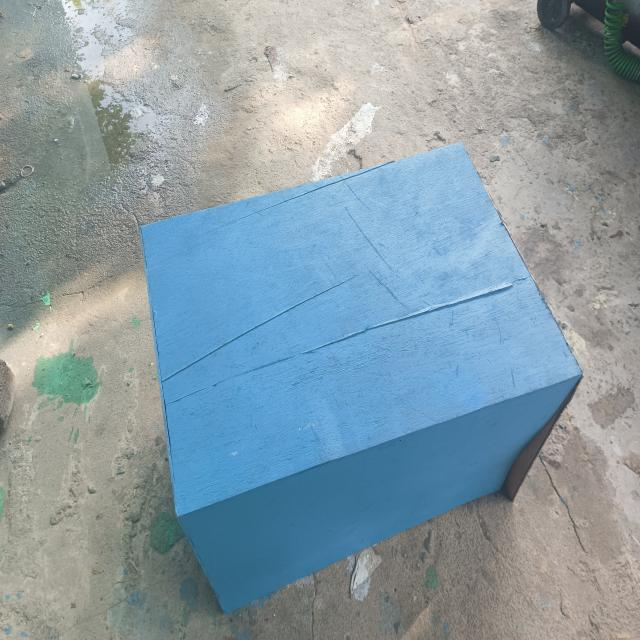blue_box: (138, 141, 573, 615)
